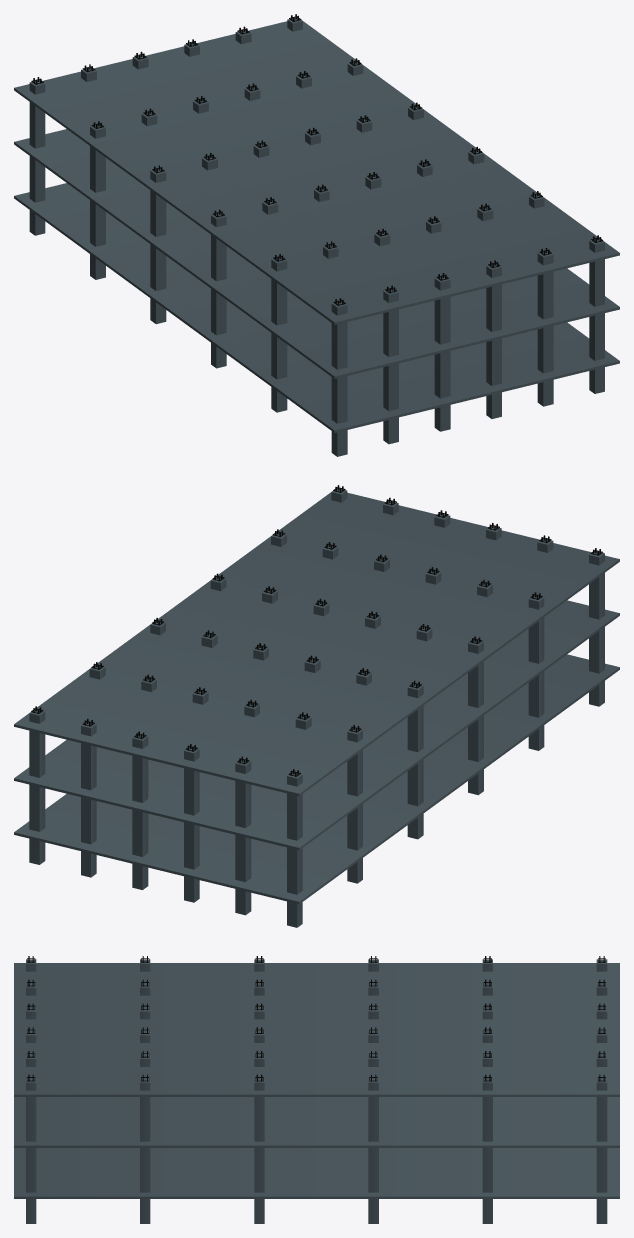
File: Constrution1.fbx
3 renders of one model, top to bottom at view 1: azimuth 30°, elevation 25°; view 2: azimuth 150°, elevation 25°; view 3: azimuth 270°, elevation 25°, orthographic. The views are drawn at different scales.
Visible parts, largest first — view 1: PlaceContruction_LOD0; view 2: PlaceContruction_LOD0; view 3: PlaceContruction_LOD0.
Part boxes in pixels (x1=…): PlaceContruction_LOD0: x1=14, y1=14, x2=619, y2=456; PlaceContruction_LOD0: x1=14, y1=485, x2=619, y2=927; PlaceContruction_LOD0: x1=14, y1=956, x2=619, y2=1223.
Size of what is drawn, in the model's own units: 2689 by 1386 by 5234.
